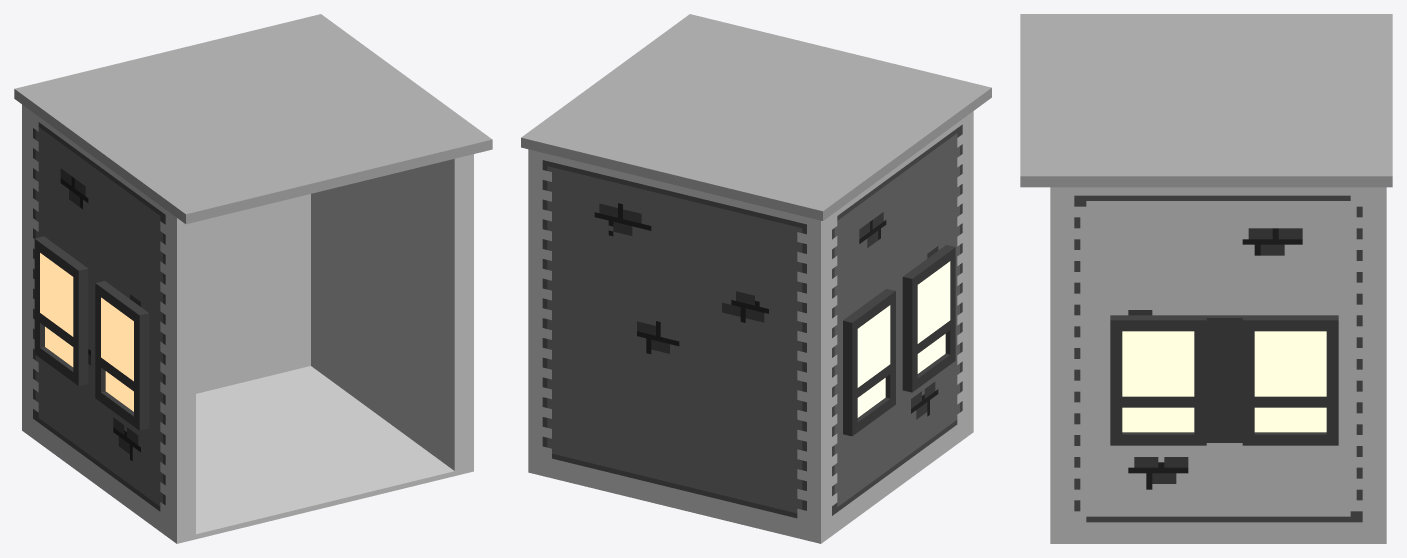
File: typeEleven.glb
The picture shows the model from 3 angles, left to right: view 1: azimuth 30°, elevation 25°; view 2: azimuth 150°, elevation 25°; view 3: azimuth 270°, elevation 25°; orthographic projection. The views are drawn at different scales.
Parts seen in each view (by area): view 1: ObjObject; view 2: ObjObject; view 3: ObjObject.
Part boxes in pixels (<box>): ObjObject: <box>14,14,492,543</box>; ObjObject: <box>521,14,991,543</box>; ObjObject: <box>1020,14,1392,543</box>.
Bounding box in the file's own units: 6.6 × 6.8 × 6.2.
3 materials, 1 textured.
